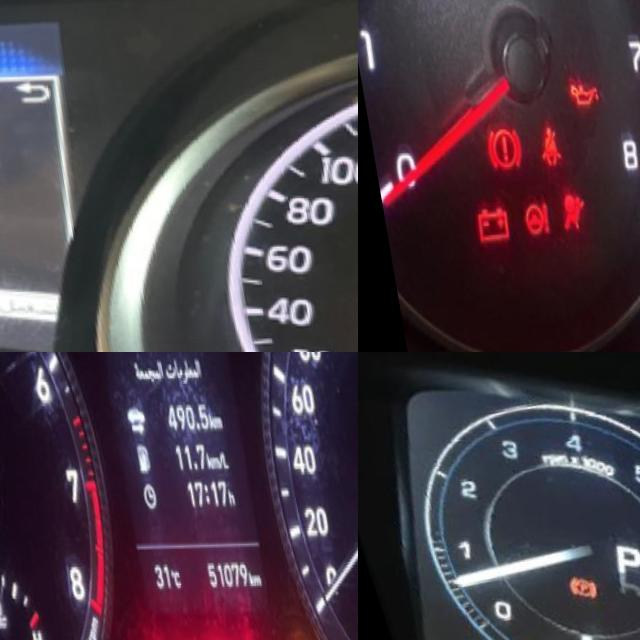Electronic Power Steering: (502, 201, 540, 245)
